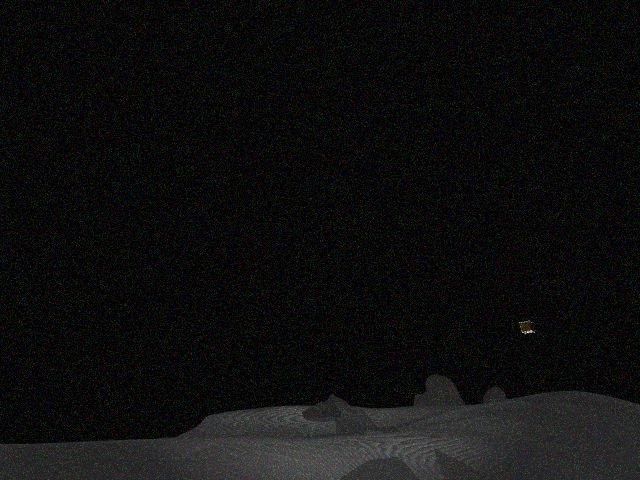cubesat: (515, 318, 539, 339)
